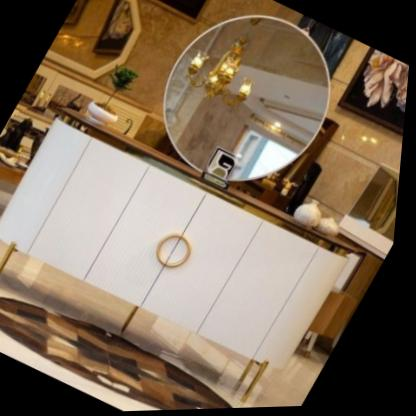Ceramic floor: (0, 327, 161, 412)
Sideboard: (0, 119, 354, 405)
